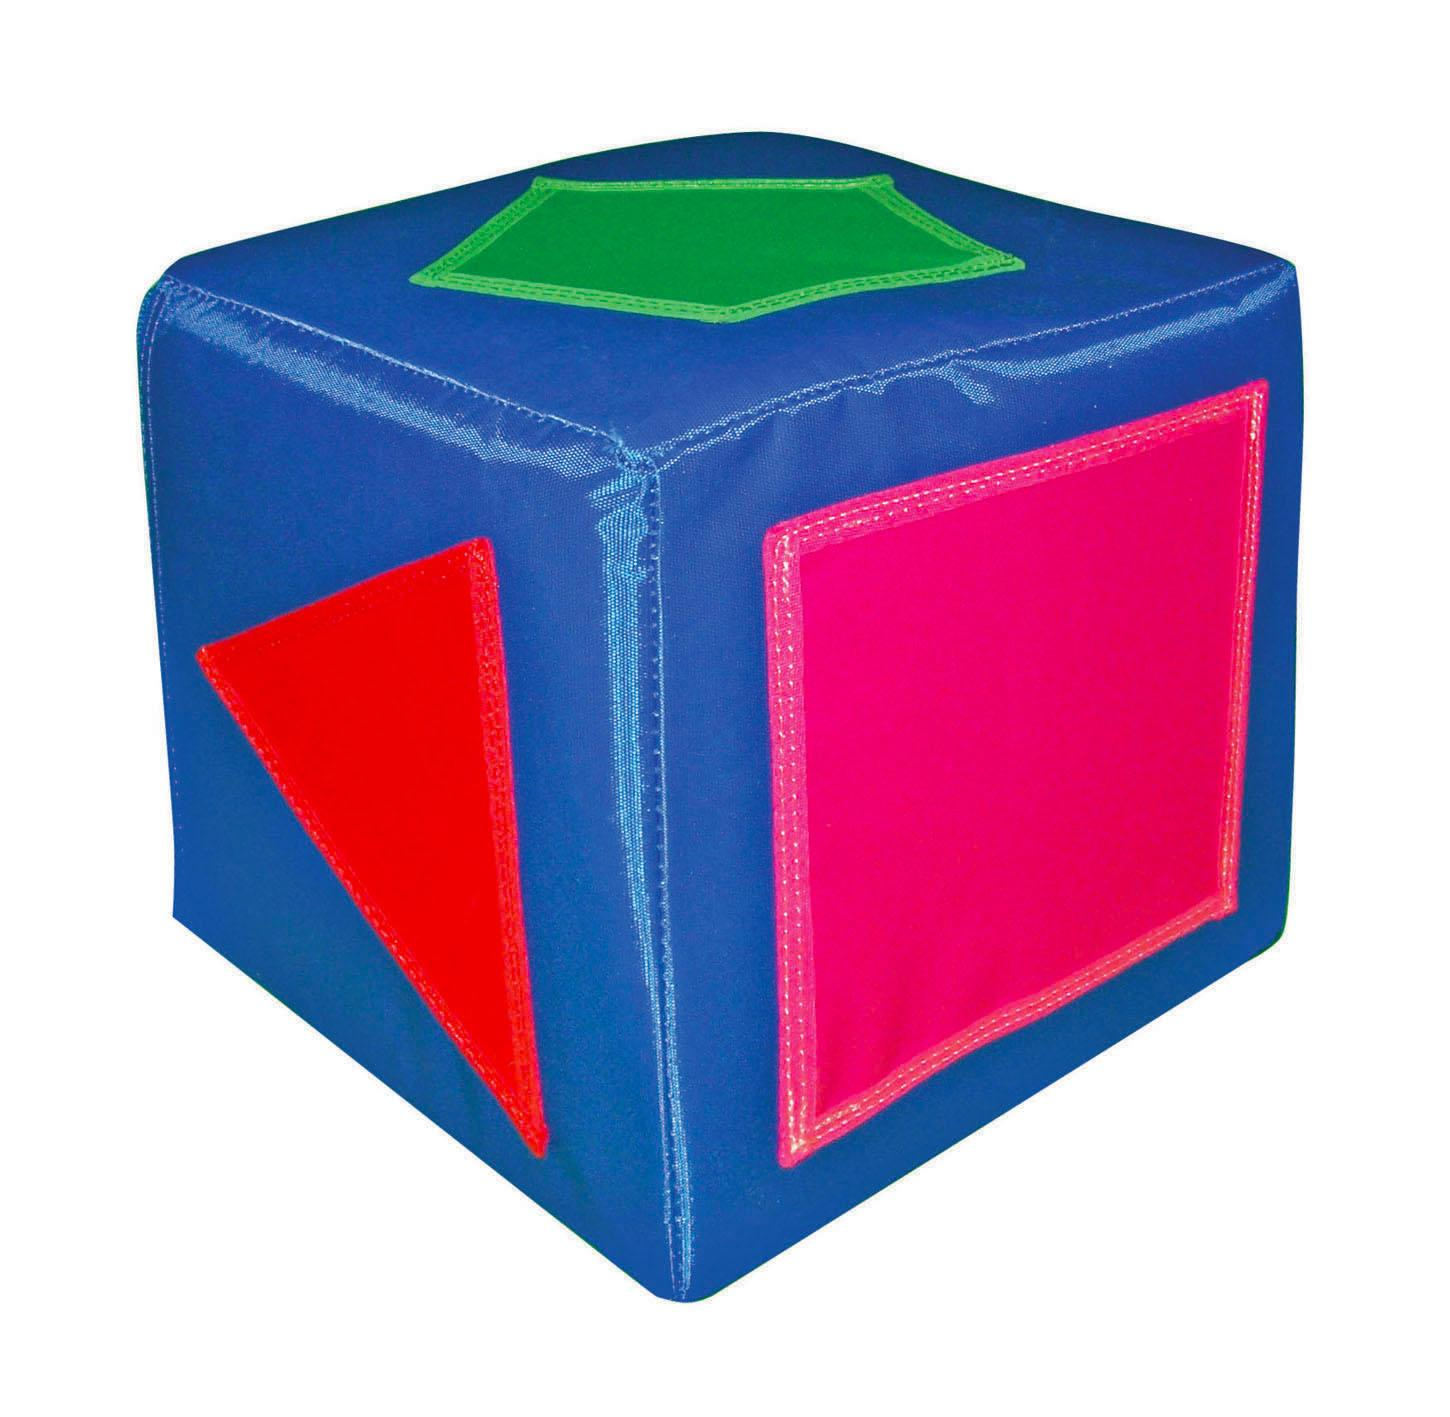cubos: (110, 104, 1344, 1320)
